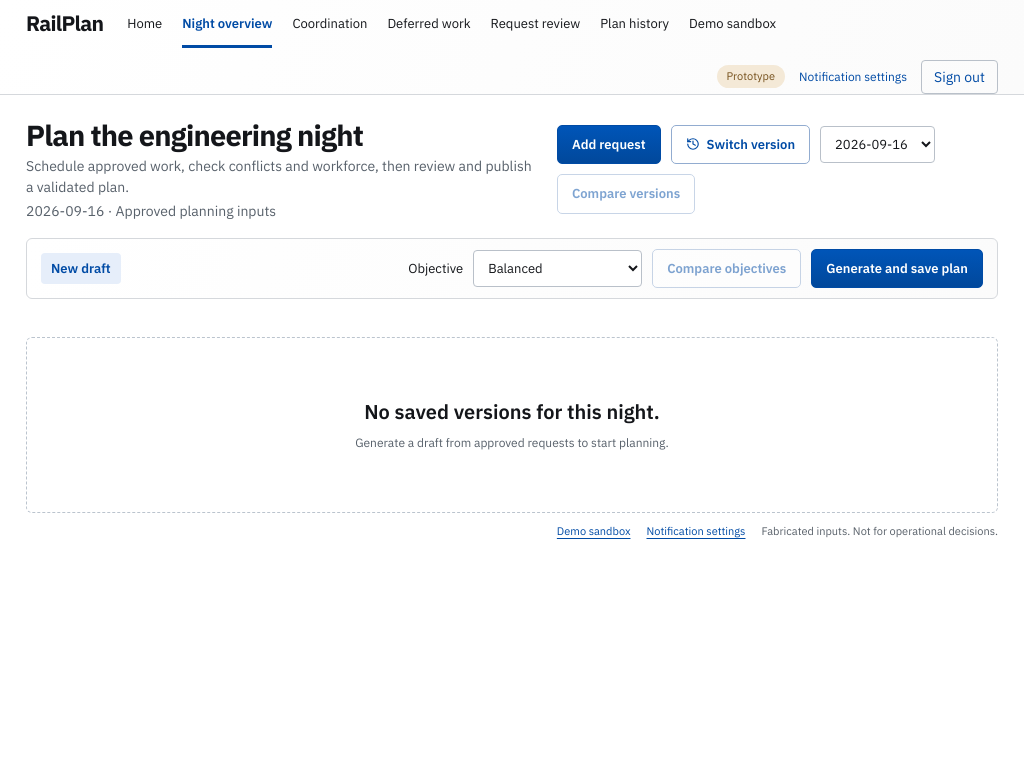
Test case: creates a durable server version and displays its saved placements and provenance
Expected: the heading "No saved versions for this night." is shown, x1=364 y1=398 x2=660 y2=425
Click the button "Generate and save plan": (897, 269) x1=811 y1=249 x2=983 y2=288
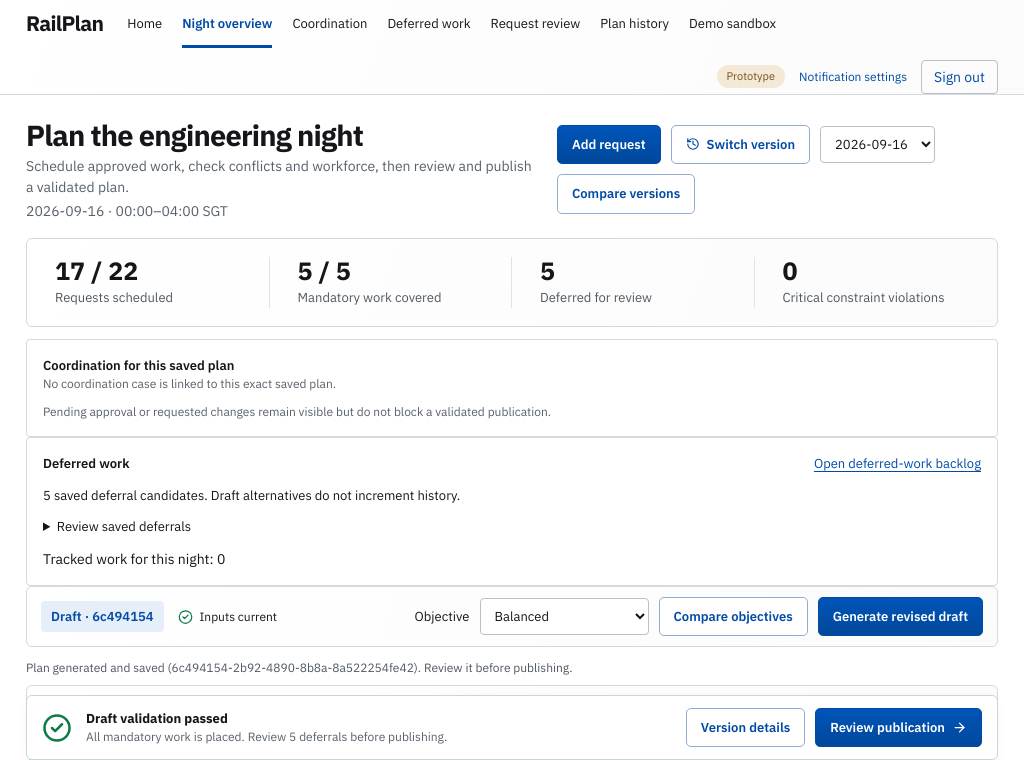
Click the button "Version details": (746, 727) x1=686 y1=708 x2=805 y2=747
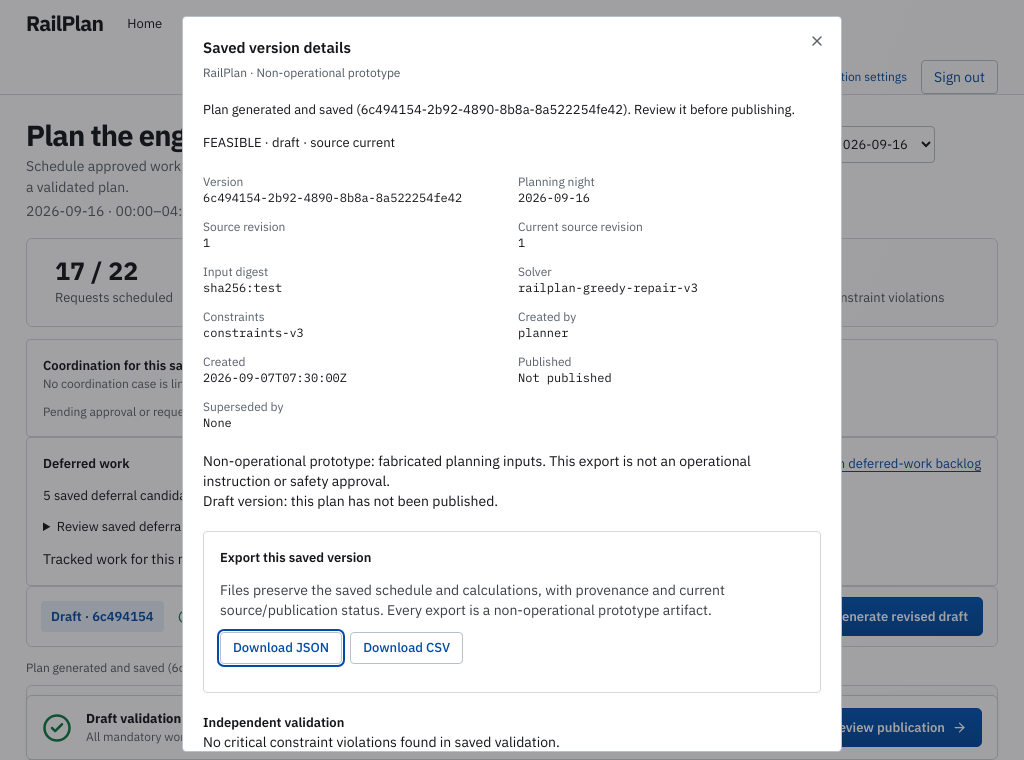
Result: the text "6c494154-2b92-4890-8b8a-8a522254fe42" is shown at x1=203 y1=190 x2=506 y2=206
Result: the text "sha256:test" is shown at x1=203 y1=280 x2=282 y2=295
